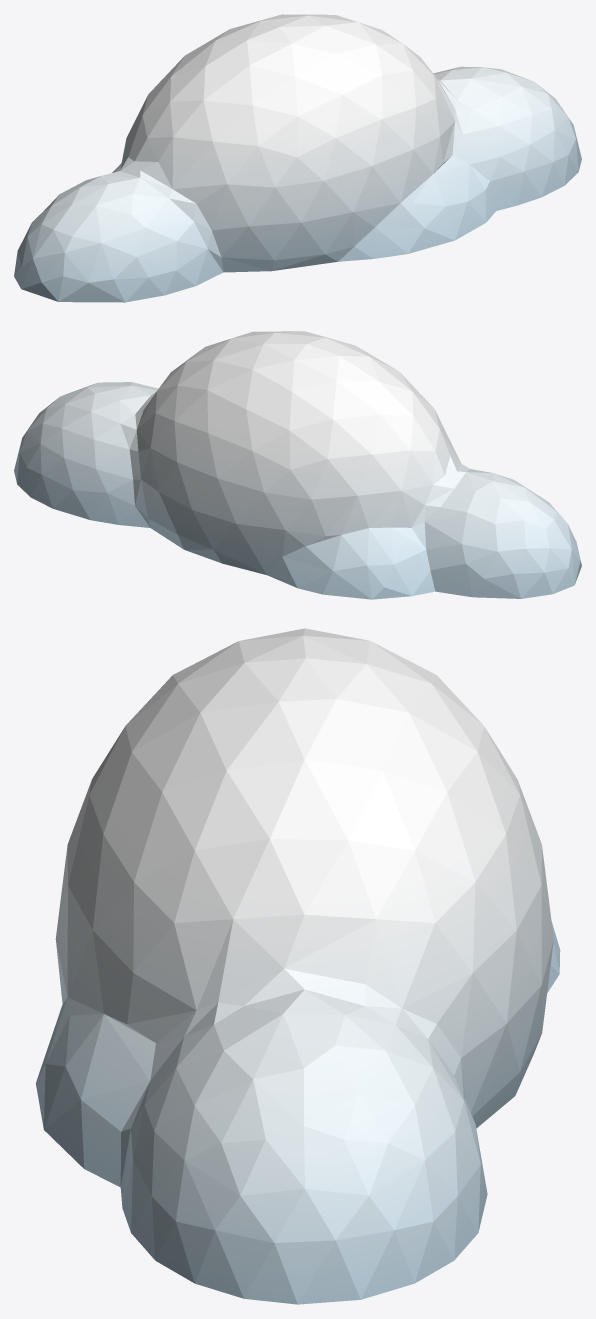
The model's file is cloud_menu_C.fbx.
3 renders of one model, top to bottom at view 1: azimuth 30°, elevation 25°; view 2: azimuth 150°, elevation 25°; view 3: azimuth 270°, elevation 25°, orthographic. The views are drawn at different scales.
Visible parts, largest first — view 1: cloud_menu_C; view 2: cloud_menu_C; view 3: cloud_menu_C.
Part boxes in pixels (x1,y1,x2,y2): cloud_menu_C: (14, 14, 581, 302); cloud_menu_C: (14, 331, 581, 599); cloud_menu_C: (36, 628, 560, 1304).
Size of the model in its own units: 35.44 by 11.52 by 14.82.
